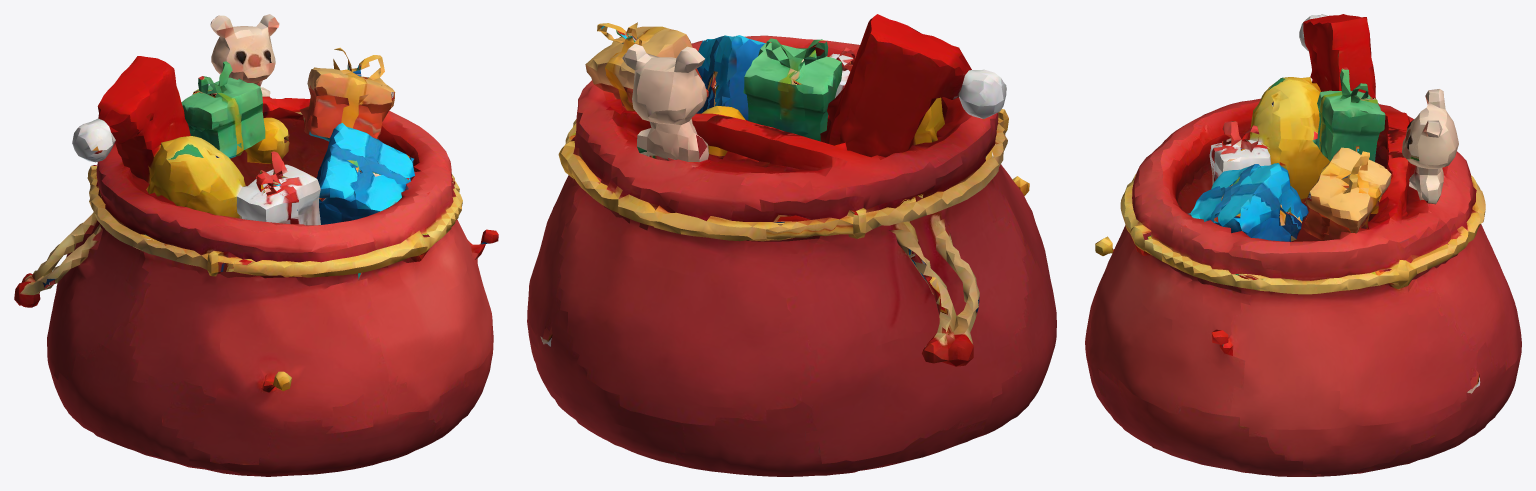
Rendered from xsw_sack.glb.
The picture shows the model from 3 angles, left to right: view 1: azimuth 30°, elevation 25°; view 2: azimuth 150°, elevation 25°; view 3: azimuth 270°, elevation 25°; orthographic projection. The views are drawn at different scales.
Parts seen in each view (by area): view 1: mesh_q; view 2: mesh_q; view 3: mesh_q.
Part boxes in pixels (box(x1,y1,x2,y2)): mesh_q: box(14, 14, 498, 476); mesh_q: box(527, 14, 1056, 476); mesh_q: box(1085, 14, 1521, 476).
Size of the model in its own units: 97.14 by 80.4 by 95.41.
Materials: 1 (1 with a texture image).
